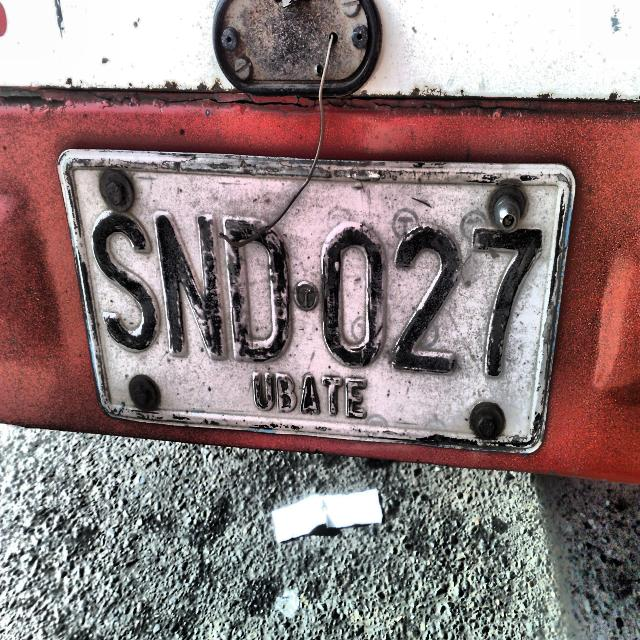plate: (62, 159, 566, 445)
